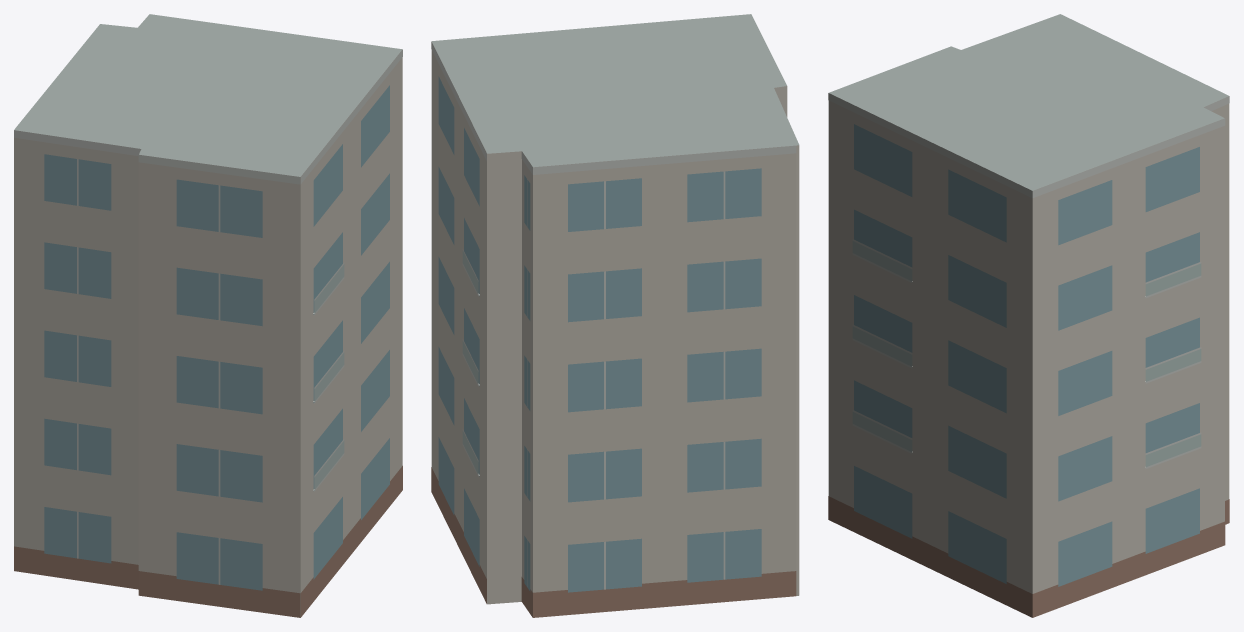
File: survey-upis-32731354.glb
3 views of the same model, side by side, from view 1: azimuth 30°, elevation 25°; view 2: azimuth 150°, elevation 25°; view 3: azimuth 270°, elevation 25° (orthographic). The views are drawn at different scales.
Visible parts, largest first — view 1: survey-upis-32731354.tmp; view 2: survey-upis-32731354.tmp; view 3: survey-upis-32731354.tmp.
Part boxes in pixels (x1,y1,x2,y2): survey-upis-32731354.tmp: (14,14,402,617); survey-upis-32731354.tmp: (431,14,799,617); survey-upis-32731354.tmp: (828,14,1229,617).
Bounding box in the file's own units: 12.54 × 14.1 × 12.01.
